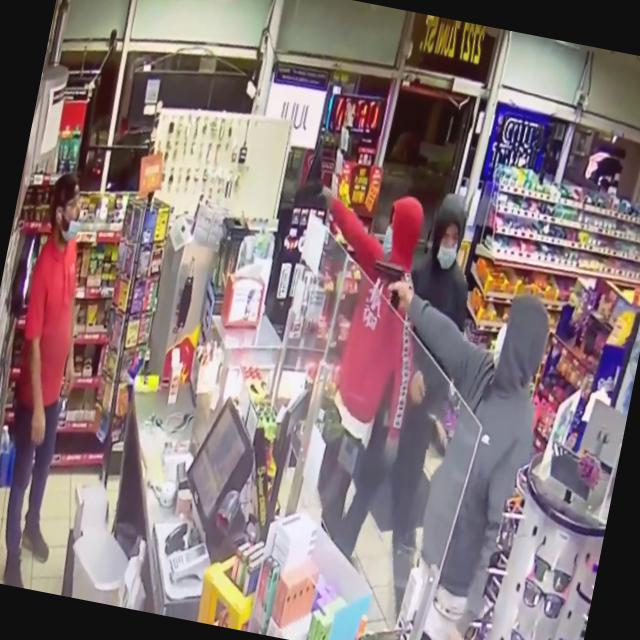handgun: (367, 254, 411, 318), (289, 167, 330, 230)
